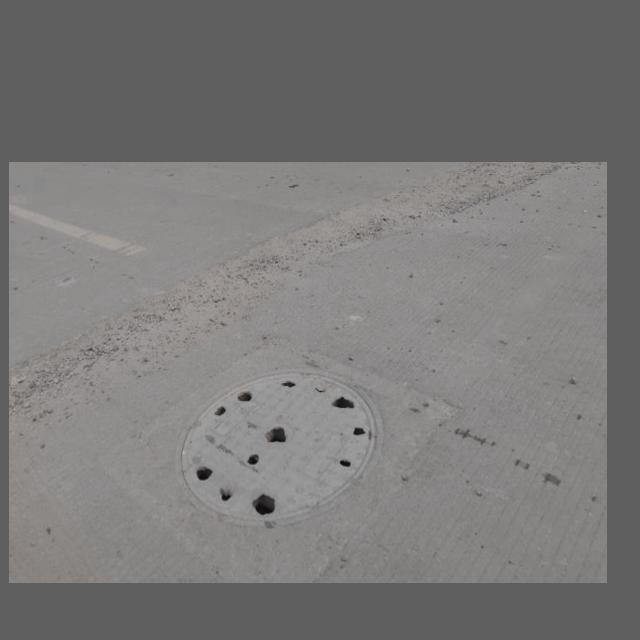broke: (174, 368, 381, 521)
